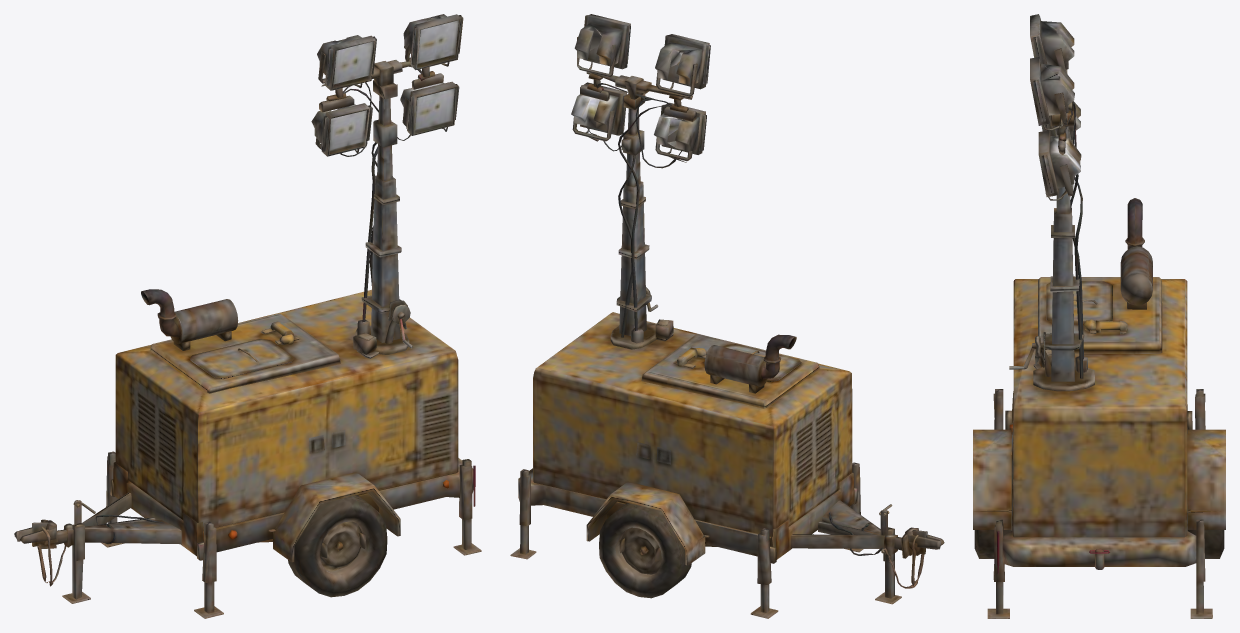
Rendered from generator_light_tower.glb.
3 views of the same model, side by side, from view 1: azimuth 30°, elevation 25°; view 2: azimuth 150°, elevation 25°; view 3: azimuth 270°, elevation 25° (orthographic). The views are drawn at different scales.
Parts seen in each view (by area): view 1: geometry_0; view 2: geometry_0; view 3: geometry_0.
Part boxes in pixels (left/top/right/bottom): geometry_0: left=14, top=14, right=481, bottom=618; geometry_0: left=510, top=14, right=944, bottom=618; geometry_0: left=973, top=14, right=1225, bottom=618.
Bounding box in the file's own units: 3.53 × 4.2 × 1.76.
Materials: 1 (1 with a texture image).
